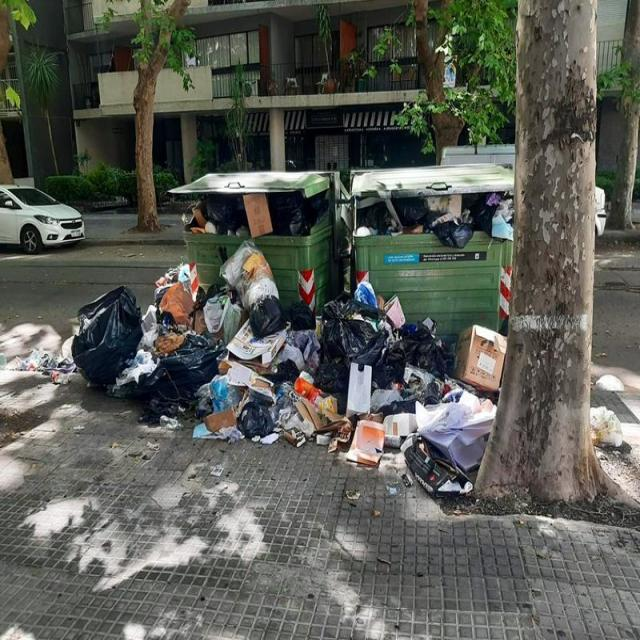garbage: (68, 257, 510, 490), (351, 183, 524, 254), (181, 188, 329, 236), (588, 364, 630, 456)
